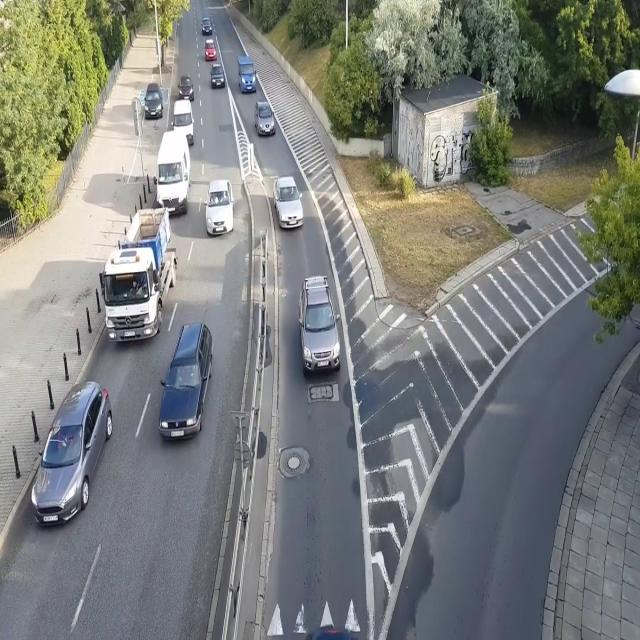car: (30, 377, 112, 530), (157, 322, 214, 442), (295, 275, 341, 378), (272, 176, 306, 230), (204, 178, 235, 236), (254, 99, 276, 136), (143, 82, 163, 118), (177, 74, 195, 104), (210, 63, 225, 87), (203, 39, 217, 61), (200, 15, 212, 34)
truck: (100, 208, 177, 342)
van: (152, 131, 192, 213), (170, 97, 195, 145), (236, 54, 256, 94)
